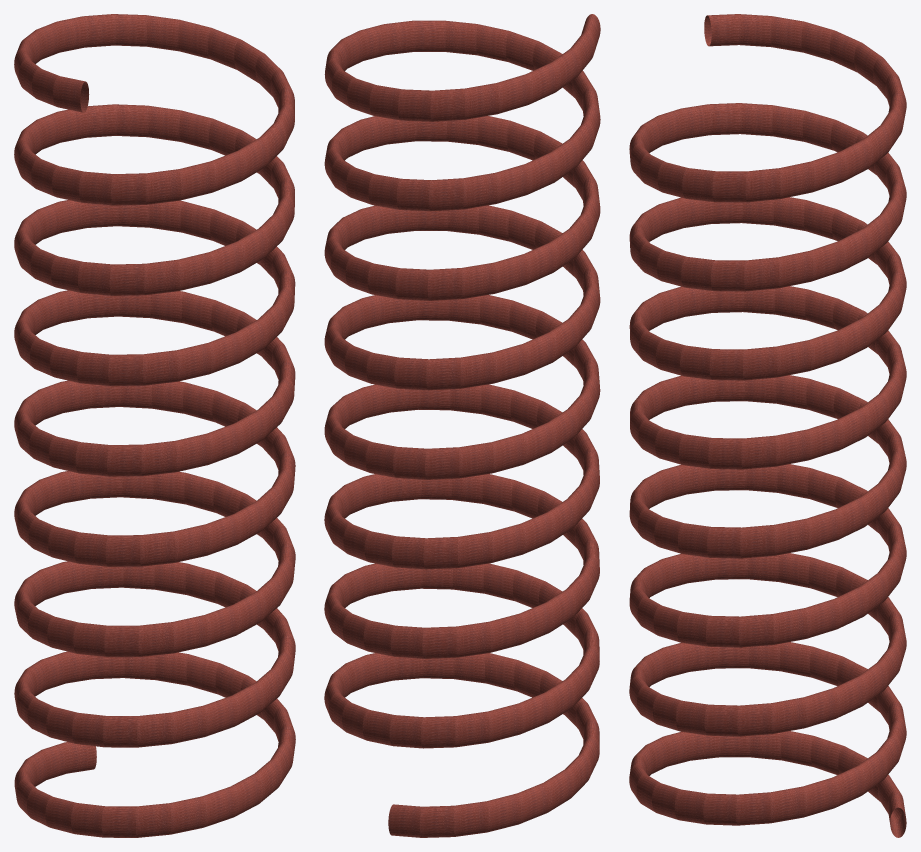
File: Ressort.obj
3 renders of one model, left to right at view 1: azimuth 30°, elevation 25°; view 2: azimuth 150°, elevation 25°; view 3: azimuth 270°, elevation 25°, orthographic.
Parts seen in each view (by area): view 1: Circle; view 2: Circle; view 3: Circle.
Part boxes in pixels (bbox=[...]): Circle: bbox=[14, 14, 295, 837]; Circle: bbox=[324, 14, 600, 837]; Circle: bbox=[629, 14, 906, 837].
Size of the model in its own units: 10.84 by 33.51 by 10.92.
